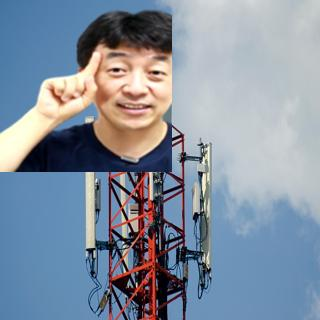IRRITATED: (33, 49, 105, 125)
